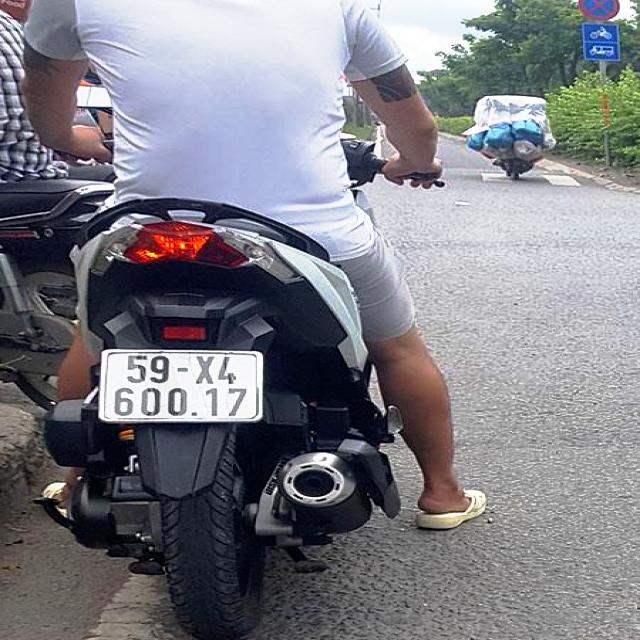license_plate: (104, 349, 263, 422)
